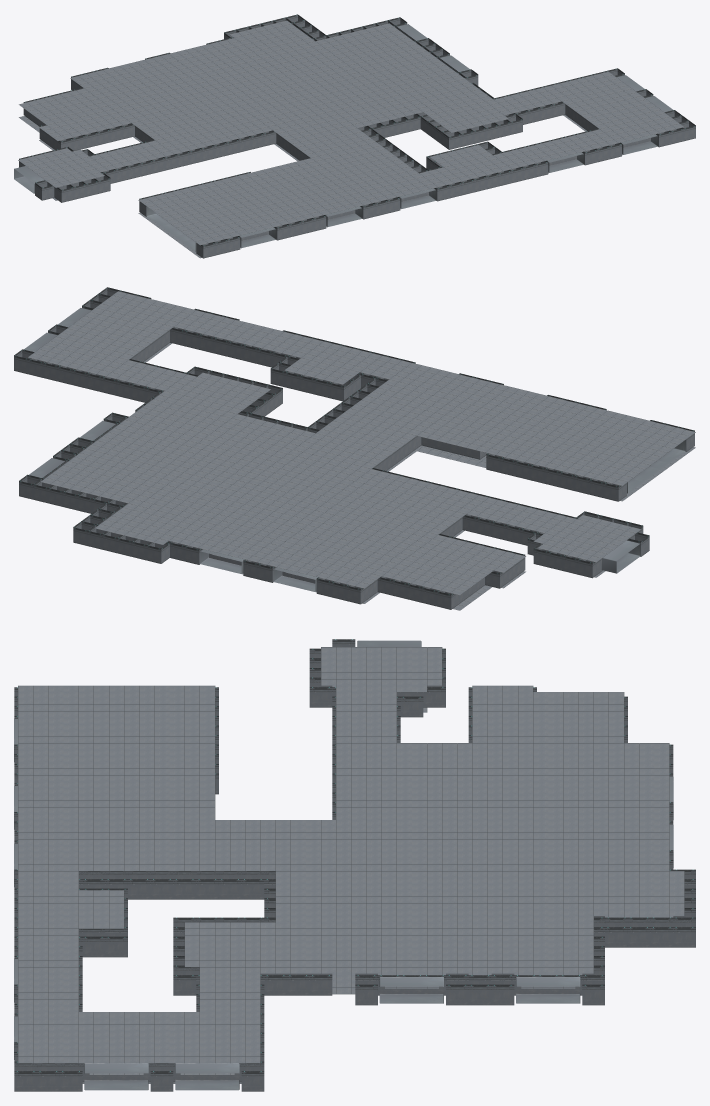
The model's file is WorldObject.obj.
The picture shows the model from 3 angles, top to bottom: view 1: azimuth 30°, elevation 25°; view 2: azimuth 150°, elevation 25°; view 3: azimuth 270°, elevation 25°; orthographic projection. The views are drawn at different scales.
Visible parts, largest first — view 1: Plane.003_Plane.065, Plane.002_Plane.064, Cube.421_Cube.632, Cube.098_Cube.644, Cube.208_Cube.645, Cube.209_Cube.646, Cube.210_Cube.647, Cube.096_Cube.643, Cube.001_Cube.635; view 2: Plane.003_Plane.065, Plane.002_Plane.064, Cube.001_Cube.635, Cube.421_Cube.632, Cube.089_Cube.638, Cube.007_Cube.637; view 3: Plane.003_Plane.065, Cube.002_Cube.639, Cube.091_Cube.640, Cube.092_Cube.641, Cube.095_Cube.642, Plane.002_Plane.064, Cube.197_Cube.397, Cube.143_Cube.341, Cube.145_Cube.343, Cube.144_Cube.342, Cube.198_Cube.398, Cube.228_Cube.428 (+6 smaller).
Boxes of the visible parts, x1,y1,x2,y2 form: Plane.003_Plane.065: (18, 20, 684, 245); Plane.002_Plane.064: (19, 115, 647, 258); Cube.421_Cube.632: (146, 206, 196, 251); Cube.098_Cube.644: (547, 152, 584, 172); Cube.208_Cube.645: (325, 206, 362, 226); Cube.209_Cube.646: (399, 188, 436, 208); Cube.210_Cube.647: (239, 227, 276, 248); Cube.096_Cube.643: (621, 134, 657, 154); Cube.001_Cube.635: (14, 166, 44, 193); Plane.003_Plane.065: (28, 291, 695, 595); Plane.002_Plane.064: (143, 343, 695, 610); Cube.001_Cube.635: (601, 540, 640, 573); Cube.421_Cube.632: (627, 440, 685, 493); Cube.089_Cube.638: (200, 549, 244, 573); Cube.007_Cube.637: (273, 567, 317, 591); Plane.003_Plane.065: (18, 647, 684, 1063); Cube.002_Cube.639: (514, 975, 582, 1003); Cube.091_Cube.640: (378, 975, 445, 1003); Cube.092_Cube.641: (173, 1063, 241, 1090); Cube.095_Cube.642: (82, 1063, 150, 1090); Plane.002_Plane.064: (82, 685, 673, 1083); Cube.197_Cube.397: (468, 975, 491, 1005); Cube.143_Cube.341: (650, 917, 673, 947); Cube.145_Cube.343: (605, 917, 627, 947); Cube.144_Cube.342: (628, 917, 650, 947); Cube.198_Cube.398: (446, 975, 468, 1005); Cube.228_Cube.428: (582, 975, 604, 1005).
Size of the model in its own units: 135 by 3 by 90.06.
427 materials, 427 textured.
